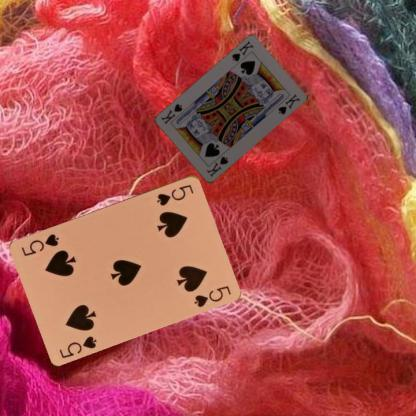5s: (57, 332, 98, 360), (154, 181, 194, 207)
Ks: (204, 154, 229, 178), (230, 39, 254, 63)
